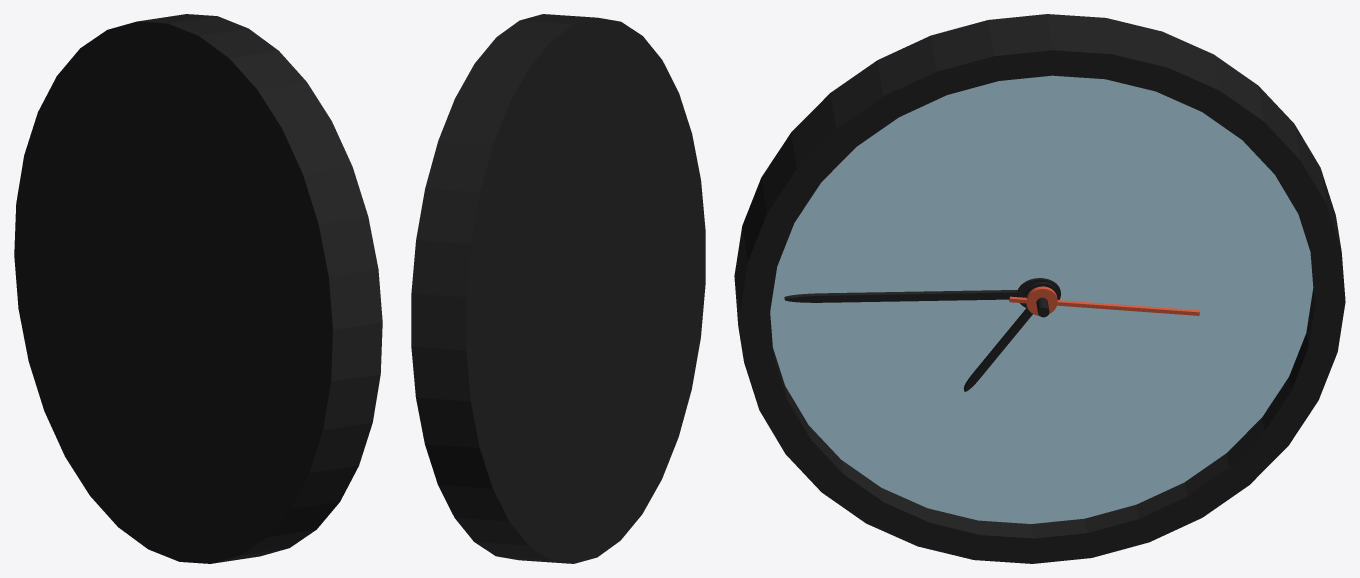
File: klok.fbx
The picture shows the model from 3 angles, left to right: view 1: azimuth 30°, elevation 25°; view 2: azimuth 150°, elevation 25°; view 3: azimuth 270°, elevation 25°; orthographic projection. The views are drawn at different scales.
Parts seen in each view (by area): view 1: Cylinder; view 2: Cylinder; view 3: Cylinder, Cube, Cylinder.001, Cube.001.
Boxes of the visible parts, <box> form: Cylinder: <box>14,14,382,563</box>; Cylinder: <box>411,14,705,563</box>; Cylinder: <box>734,14,1345,563</box>; Cube: <box>784,278,1060,307</box>; Cylinder.001: <box>1009,286,1199,315</box>; Cube.001: <box>963,282,1057,391</box>.
Bounding box in the file's own units: 53.01 × 201 × 201.
